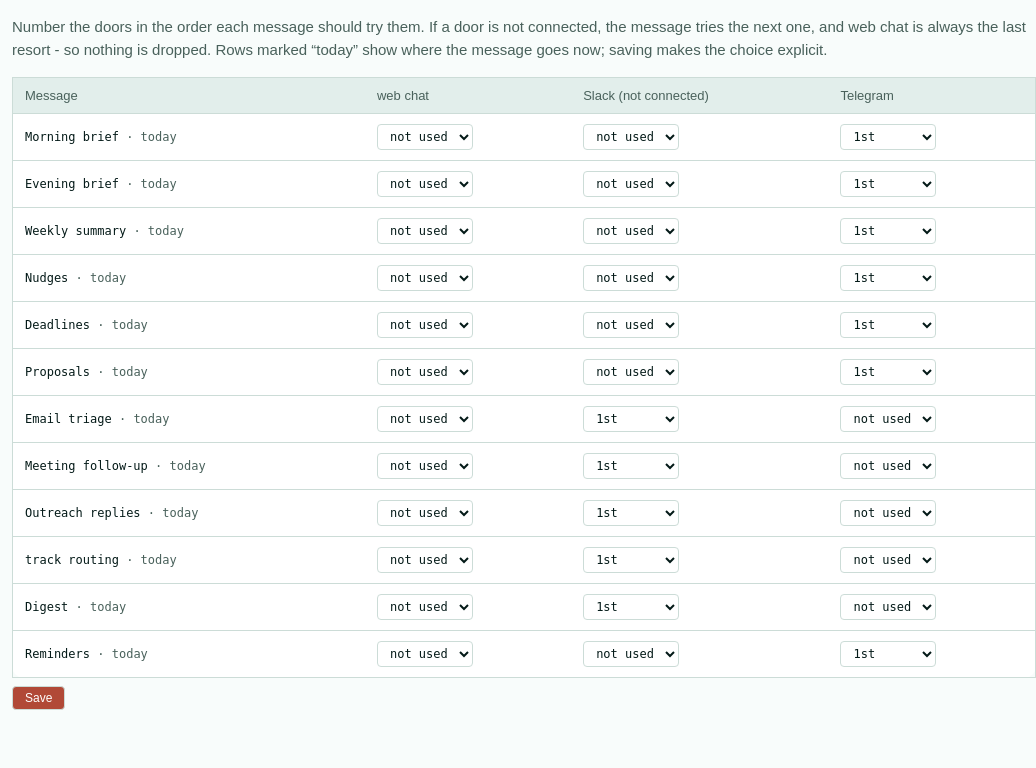
Test: DeliveryGrid › will not save a row with no first door, and says which
Select "not used" in the dropdown named "Digest via Slack": point(631, 607) [583, 594, 679, 620]
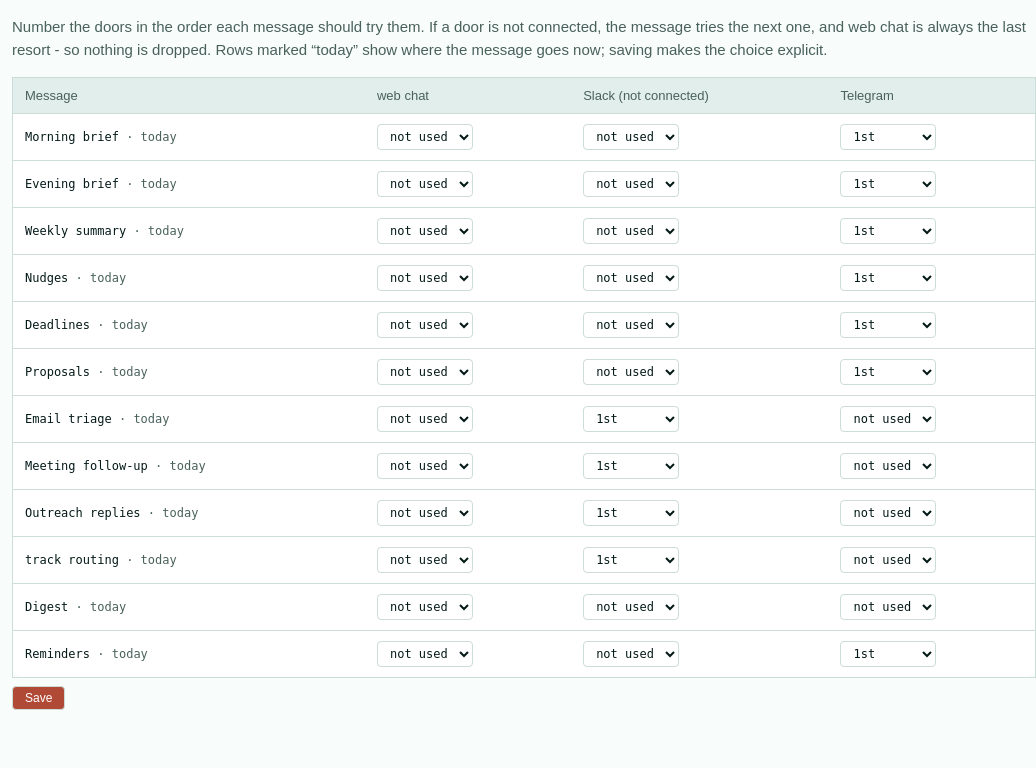
Click the button "Save": point(39, 698) [12, 686, 65, 710]
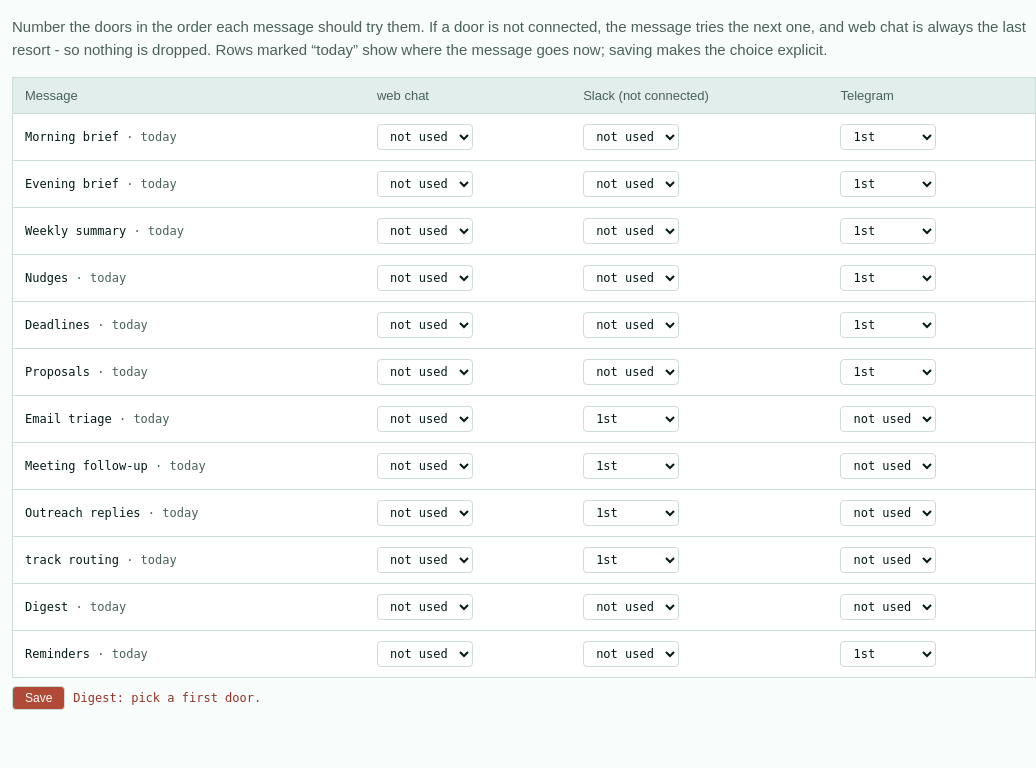
expect the message reads "Digest: pick a first door.": met, box [73, 691, 261, 705]
